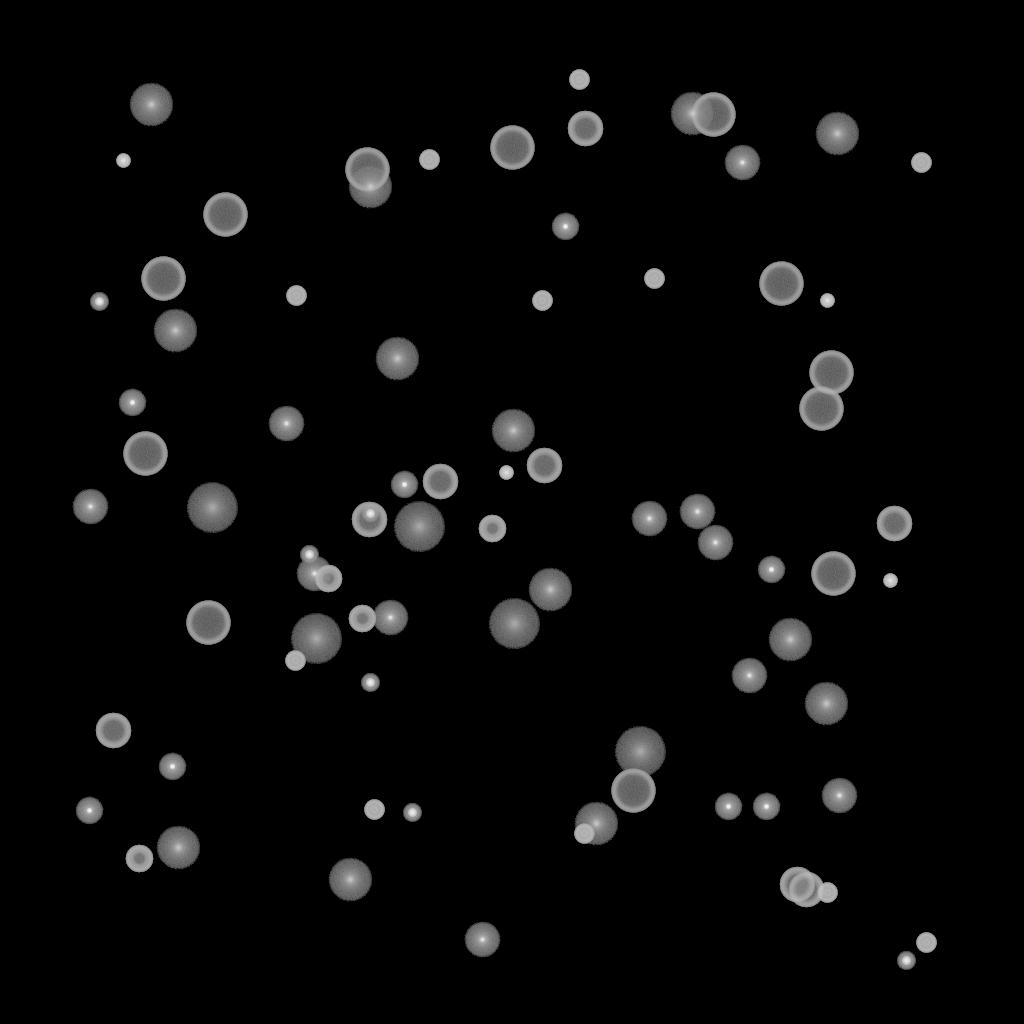depth:-10: (551, 213, 579, 241), (390, 471, 418, 499), (752, 793, 780, 821), (158, 753, 186, 781), (757, 556, 785, 584), (714, 793, 742, 821), (118, 389, 146, 417), (75, 797, 103, 825)
depth:-20: (300, 546, 318, 564), (90, 293, 108, 311), (897, 952, 915, 970), (361, 674, 379, 692), (403, 804, 421, 822), (361, 505, 379, 523)
depth:-30: (116, 154, 130, 168), (499, 466, 513, 480), (820, 294, 834, 308), (883, 574, 897, 588)
depth:-40: (911, 153, 931, 173), (569, 70, 589, 90), (916, 933, 936, 953), (532, 291, 552, 311), (574, 824, 594, 844), (285, 651, 305, 671), (419, 150, 439, 170), (817, 883, 837, 903), (364, 800, 384, 820), (644, 269, 664, 289), (286, 286, 306, 306)
depth:-50: (125, 845, 153, 873), (478, 515, 506, 543), (314, 565, 342, 593), (348, 605, 376, 633)
depth:-60: (779, 867, 815, 903), (526, 448, 562, 484), (788, 872, 824, 908), (567, 111, 603, 147), (422, 464, 458, 500), (351, 502, 387, 538), (95, 713, 131, 749), (876, 506, 912, 542)
depth:-70: (186, 601, 230, 645), (141, 257, 185, 301), (691, 93, 735, 137), (809, 351, 853, 395), (123, 432, 167, 476), (611, 769, 655, 813), (799, 387, 843, 431), (811, 552, 855, 596), (759, 262, 803, 306), (490, 126, 534, 170), (203, 193, 247, 237), (345, 148, 389, 192)
depth:0: (697, 525, 733, 561), (631, 501, 667, 537), (731, 658, 767, 694), (821, 778, 857, 814), (464, 922, 500, 958), (372, 600, 408, 636), (679, 494, 715, 530), (72, 489, 108, 525), (296, 556, 332, 592), (724, 145, 760, 181), (268, 406, 304, 442)
depth:10: (574, 802, 618, 846), (815, 112, 859, 156), (156, 826, 200, 870), (153, 309, 197, 353), (129, 83, 173, 127), (528, 568, 572, 612), (804, 682, 848, 726), (768, 618, 812, 662), (375, 337, 419, 381), (670, 92, 714, 136), (348, 165, 392, 209), (328, 858, 372, 902), (491, 409, 535, 453)
depth:20: (290, 614, 342, 664), (488, 599, 540, 649), (393, 502, 445, 552), (186, 483, 238, 533), (614, 727, 666, 777)
